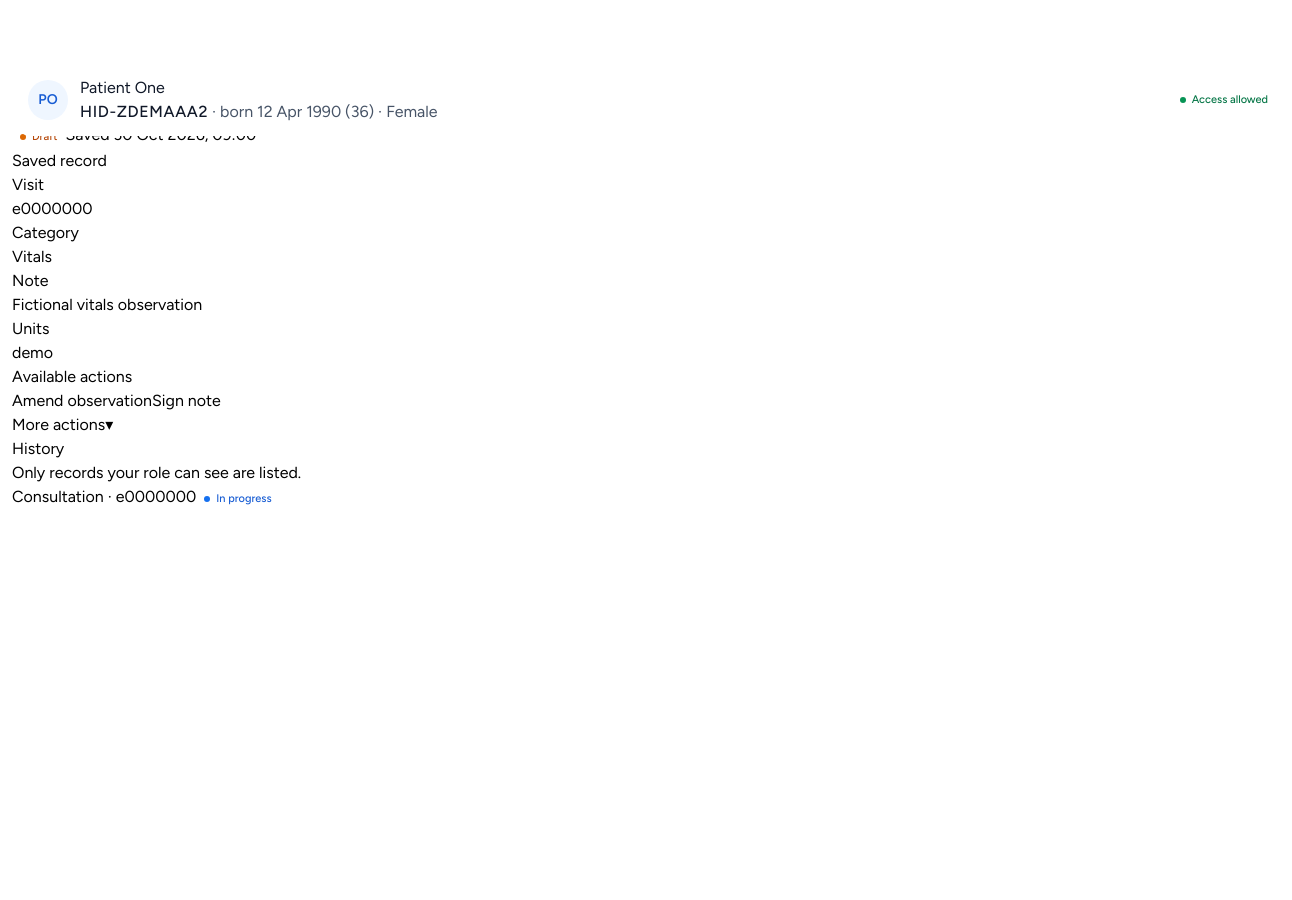
Scenario: Nursing observation record › amends as today’s note revision, after the access re-check, and keeps what it replaced
Expected: the heading "c0000000" is shown, x1=12 y1=101 x2=92 y2=120
Click the button "Amend observation". click: x=82, y=401
box: x1=12 y1=389 x2=152 y2=413
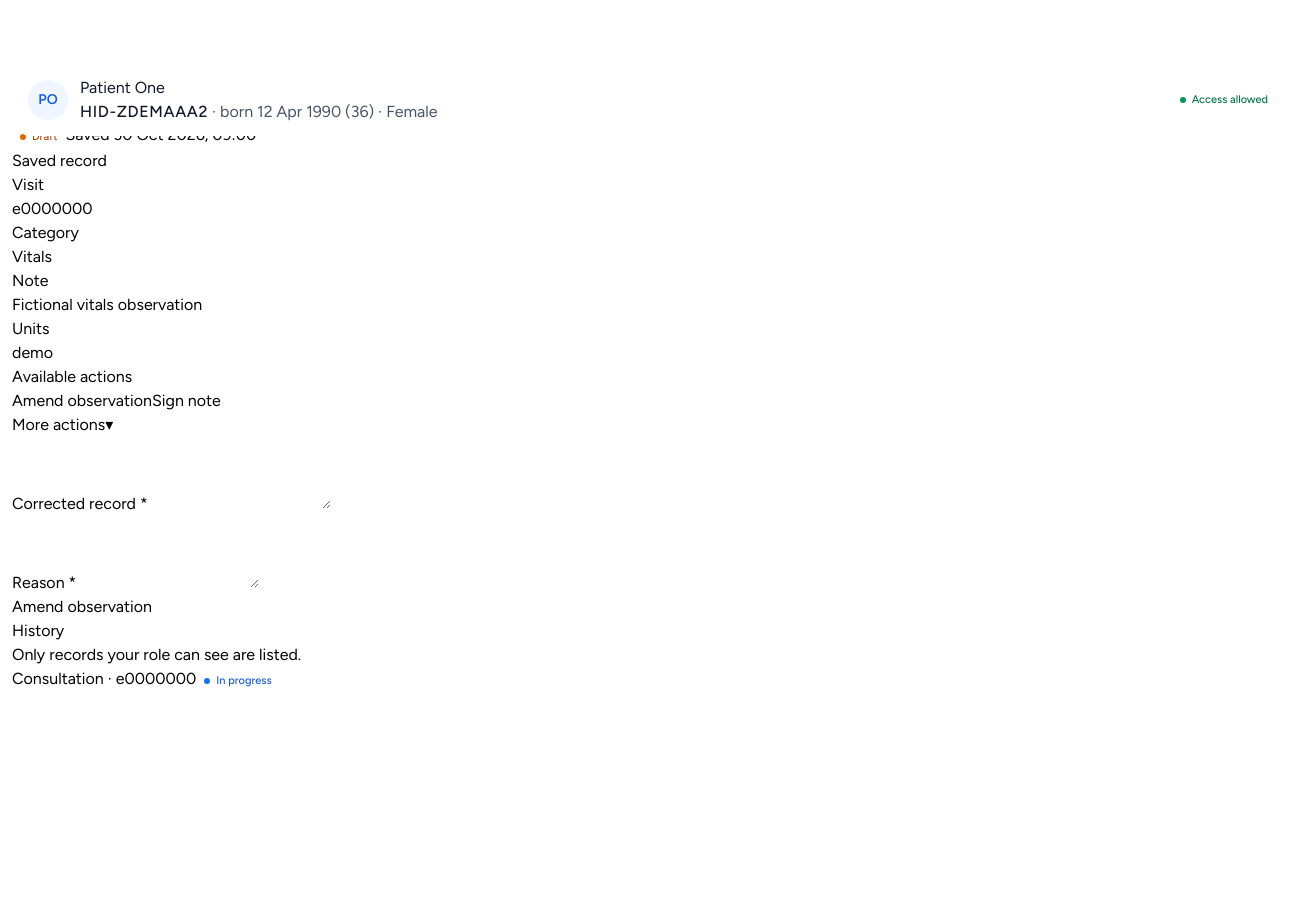
Type "Corrected vitals observation" into the text box labelled "Corrected record *". click: x=239, y=473
box: x1=148 y1=437 x2=331 y2=509
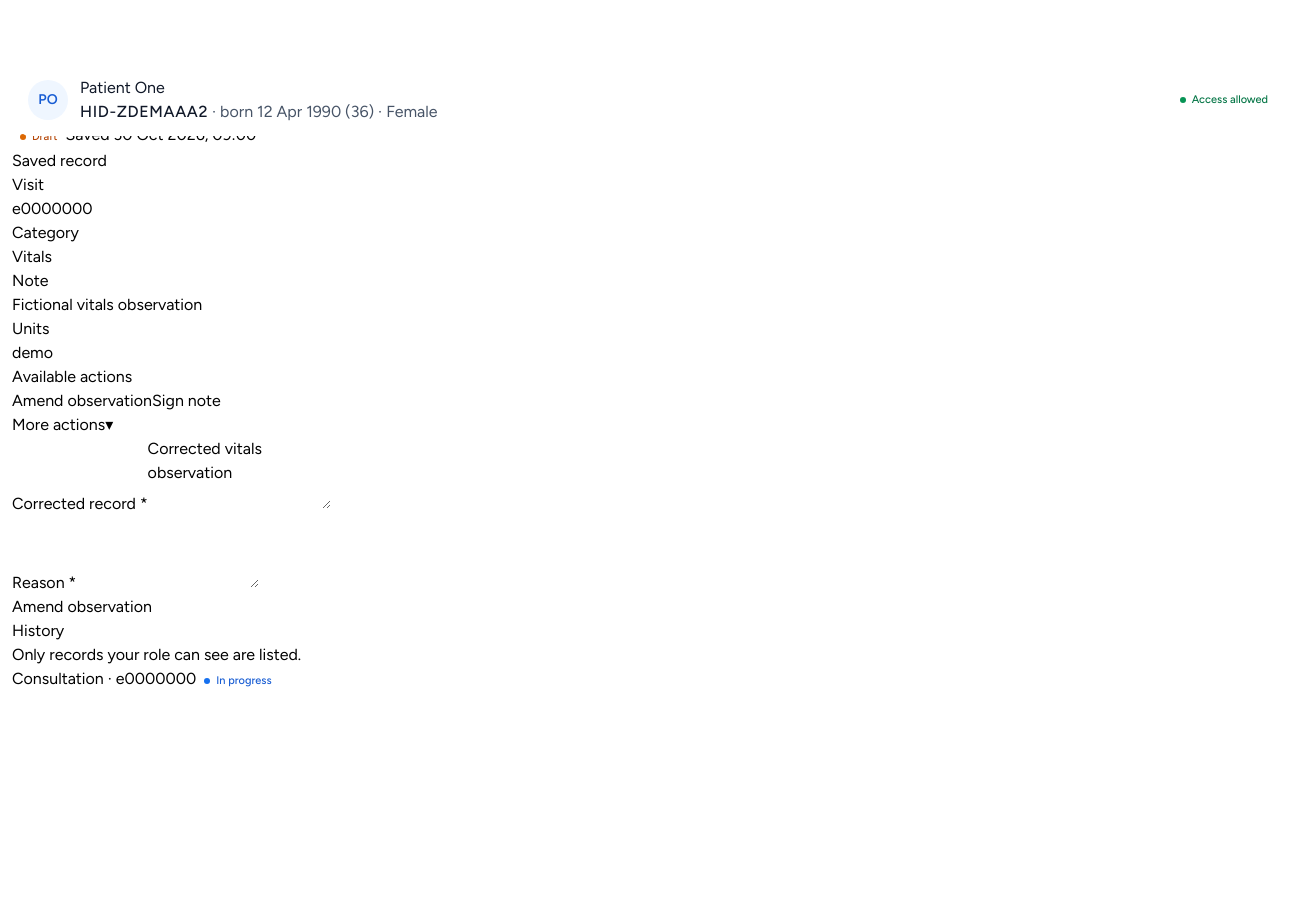
Type "Wrong patient bed" into the text box labelled "Reason *". click: x=168, y=552
box: x1=76 y1=516 x2=259 y2=588
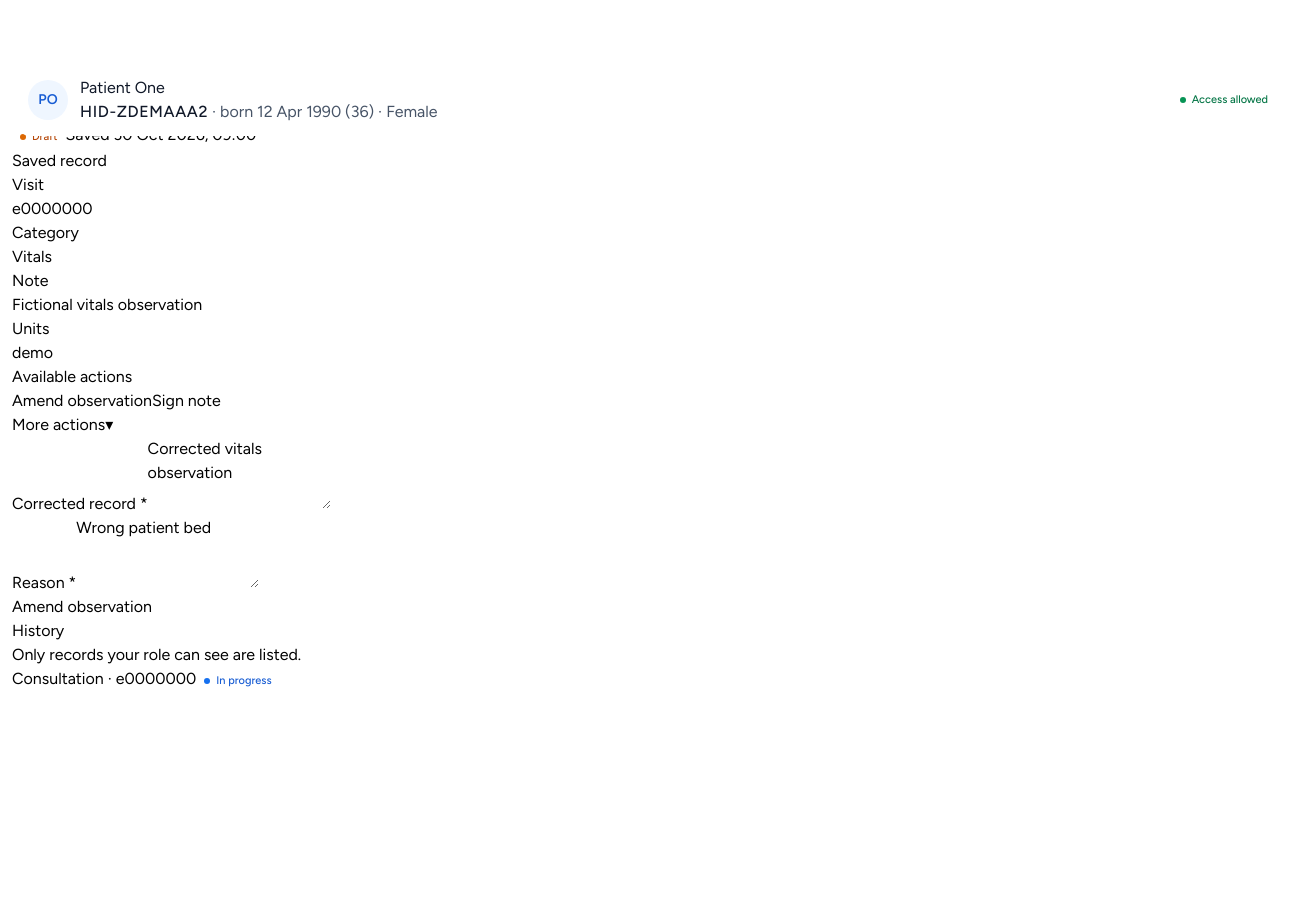
Submit the form "Amend observation", box x1=12 y1=437 x2=331 y2=619
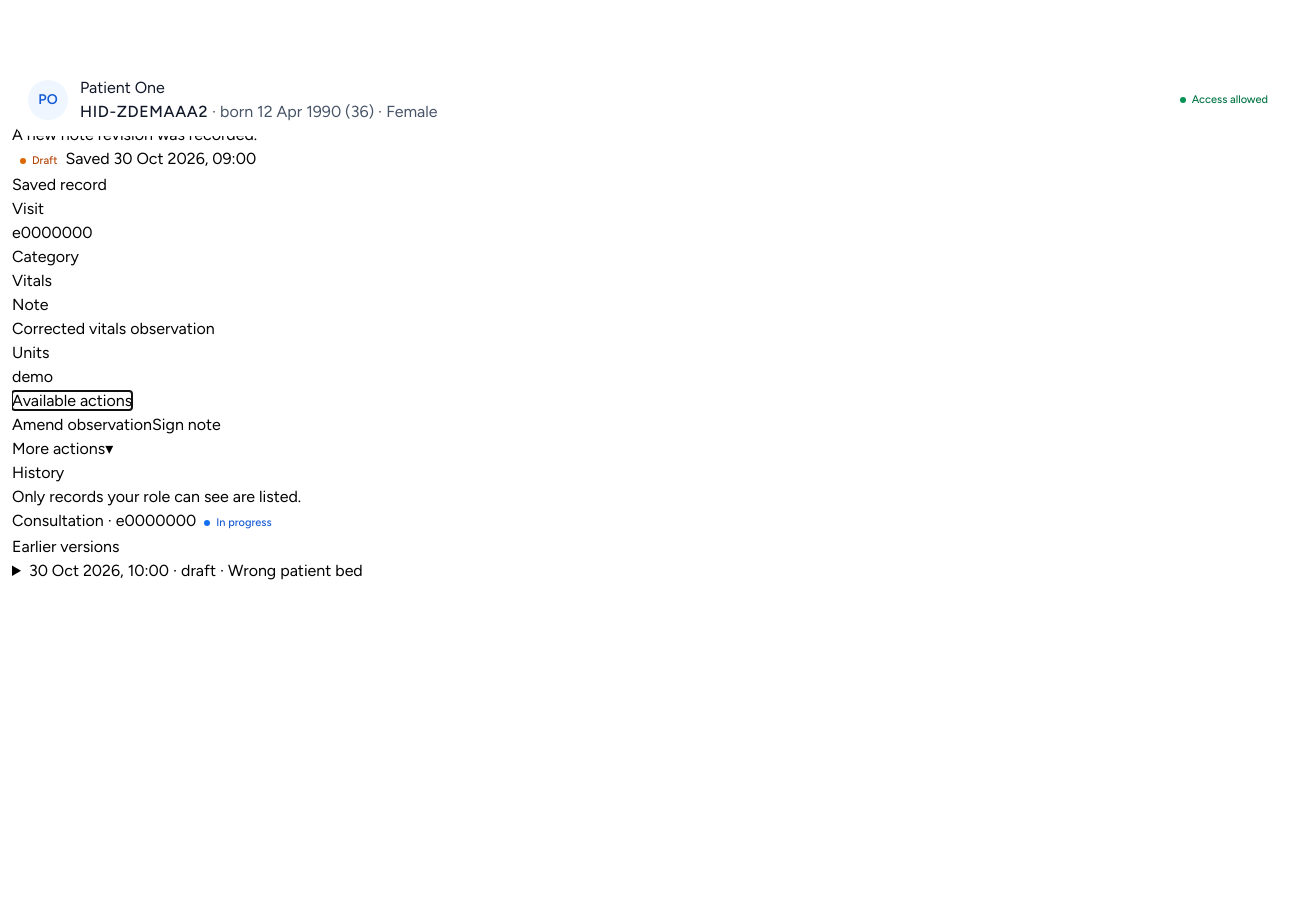
Expected: the text "A new note revision was recorded." is shown, x1=12 y1=125 x2=257 y2=144
Expected: the text "Corrected vitals observation" is shown, x1=12 y1=319 x2=215 y2=338
Expected: the heading "30 Oct 2026, 10:00 · draft · Wrong patient bed" is shown, x1=29 y1=561 x2=363 y2=580
